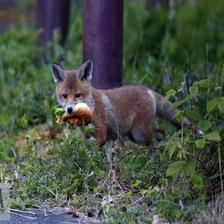fox: (47, 59, 203, 159)
